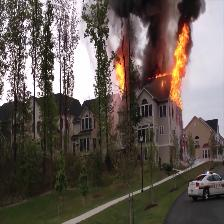fire: (107, 26, 190, 100)
smoke: (117, 1, 197, 24)
